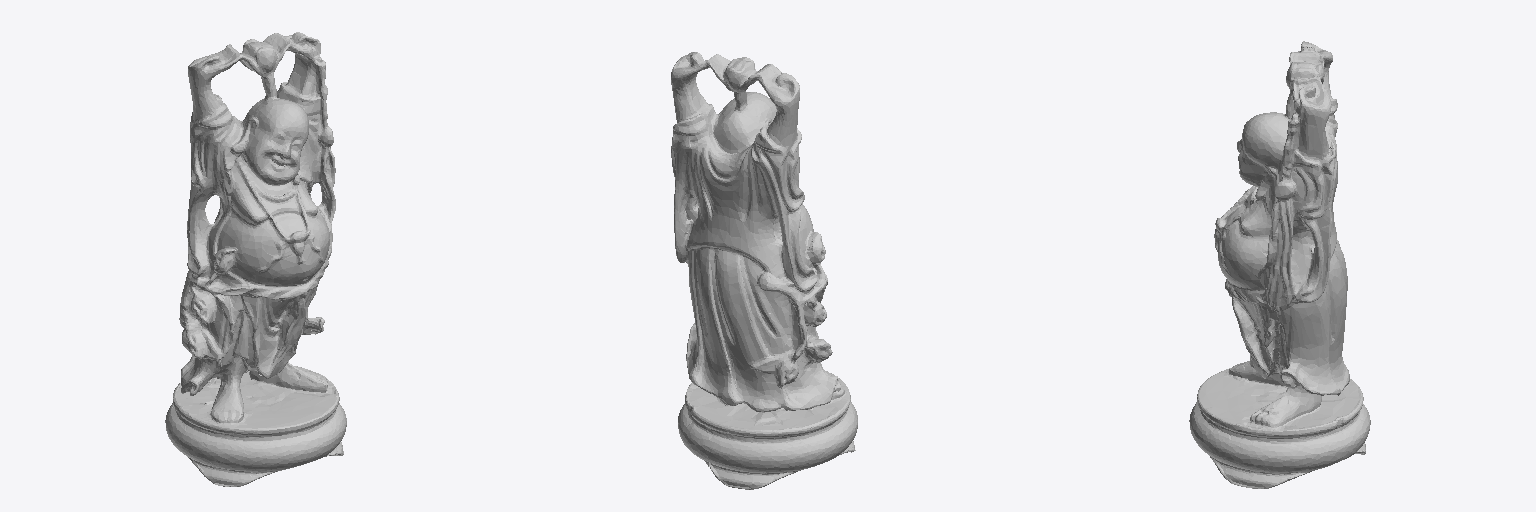
File: buddha_low.obj
3 renders of one model, left to right at view 1: azimuth 30°, elevation 25°; view 2: azimuth 150°, elevation 25°; view 3: azimuth 270°, elevation 25°, orthographic.
Visible parts, largest first — view 1: buddha; view 2: buddha; view 3: buddha.
Part boxes in pixels (left/top/right/bottom): buddha: left=165, top=32, right=346, bottom=486; buddha: left=671, top=52, right=857, bottom=489; buddha: left=1189, top=41, right=1370, bottom=488.
Size of the model in its own units: 41.07 by 100 by 41.14.